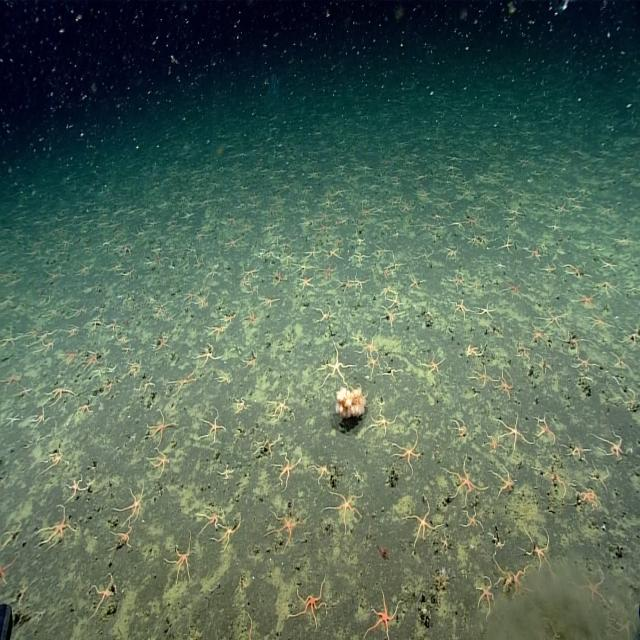brittle-stars: (575, 560, 609, 606), (292, 580, 327, 624), (364, 593, 396, 640), (41, 508, 78, 548), (446, 461, 480, 502), (495, 557, 529, 597), (522, 529, 552, 574), (269, 505, 301, 547), (327, 490, 363, 526), (167, 539, 194, 583), (322, 348, 352, 387), (408, 504, 436, 545), (536, 466, 566, 501), (393, 431, 421, 468), (498, 417, 528, 451), (120, 485, 148, 520), (215, 517, 243, 552), (274, 452, 301, 488), (91, 576, 117, 612), (597, 431, 627, 462), (146, 412, 173, 444), (490, 466, 516, 497), (201, 411, 225, 443), (612, 375, 636, 407), (564, 435, 589, 465), (199, 504, 225, 532), (477, 576, 496, 614), (270, 391, 294, 420), (171, 369, 197, 395), (110, 522, 134, 550), (0, 520, 21, 552), (613, 611, 636, 640), (542, 306, 568, 331), (252, 433, 278, 458), (372, 408, 396, 435), (0, 553, 18, 588), (25, 329, 56, 349), (48, 382, 74, 405), (470, 364, 492, 391), (151, 448, 172, 476), (65, 476, 87, 502), (448, 414, 469, 440), (591, 460, 609, 490), (558, 332, 588, 350), (572, 288, 597, 309), (578, 484, 597, 511), (198, 344, 220, 367), (423, 352, 444, 376), (536, 417, 554, 445), (46, 446, 66, 471), (562, 263, 587, 283), (496, 371, 514, 398), (587, 315, 610, 336), (1, 368, 22, 390), (0, 330, 21, 351), (528, 324, 547, 347), (463, 508, 481, 532), (486, 430, 504, 454), (598, 278, 619, 298), (311, 461, 333, 480), (542, 617, 560, 640), (624, 324, 640, 349), (504, 279, 523, 299), (317, 303, 337, 322), (40, 338, 60, 357), (154, 333, 172, 354), (575, 354, 596, 372), (84, 350, 101, 372), (478, 302, 497, 321), (379, 306, 398, 325), (61, 348, 80, 367), (360, 336, 378, 356), (5, 411, 23, 431), (464, 342, 483, 360), (208, 322, 228, 339), (386, 256, 406, 273), (30, 407, 46, 428), (298, 274, 316, 292), (488, 532, 506, 550), (240, 306, 256, 326), (454, 300, 470, 320), (351, 248, 368, 266), (352, 276, 369, 294), (76, 401, 92, 420), (450, 271, 466, 290), (364, 354, 380, 373), (262, 293, 281, 309), (527, 243, 543, 262), (134, 378, 154, 393), (320, 264, 336, 282), (271, 270, 287, 288), (62, 326, 80, 342), (244, 264, 260, 282), (612, 351, 628, 369), (47, 302, 63, 320), (89, 315, 105, 333), (384, 362, 400, 380), (14, 386, 33, 401), (235, 394, 249, 414), (127, 358, 141, 378), (224, 235, 240, 252), (71, 303, 87, 320), (221, 307, 237, 324), (410, 273, 425, 291), (442, 242, 457, 260), (373, 240, 388, 258), (0, 469, 10, 496), (244, 613, 254, 640), (442, 532, 454, 554), (280, 250, 296, 266), (306, 245, 322, 261), (540, 263, 556, 279), (468, 277, 483, 294), (295, 261, 312, 276), (196, 292, 210, 310), (388, 292, 402, 310), (415, 248, 433, 262), (325, 247, 341, 262), (380, 283, 396, 298), (242, 351, 257, 367), (320, 196, 338, 209), (398, 201, 417, 213), (500, 236, 514, 252), (464, 213, 478, 229), (353, 233, 367, 249), (320, 220, 334, 235), (200, 195, 214, 210), (600, 258, 614, 273), (101, 380, 114, 396), (107, 318, 120, 334), (220, 466, 233, 482), (342, 276, 354, 293), (121, 264, 134, 278), (508, 206, 523, 218), (552, 203, 570, 213), (216, 373, 232, 384), (495, 260, 507, 274), (105, 362, 116, 376), (117, 333, 128, 347), (124, 343, 134, 357), (194, 257, 204, 271), (546, 224, 564, 231), (184, 292, 196, 302)
